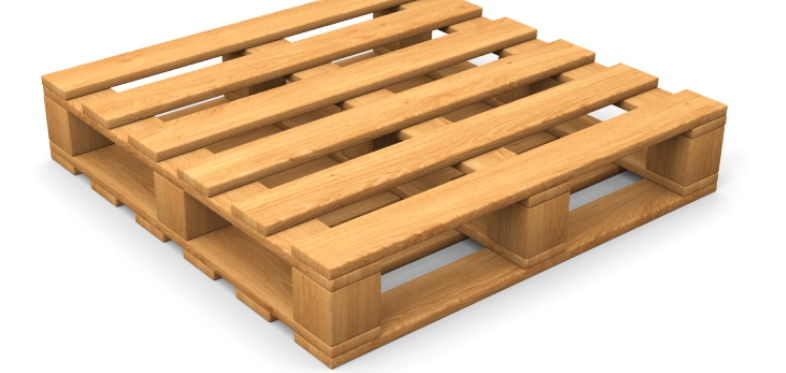hole pallet: (148, 101, 724, 367)
